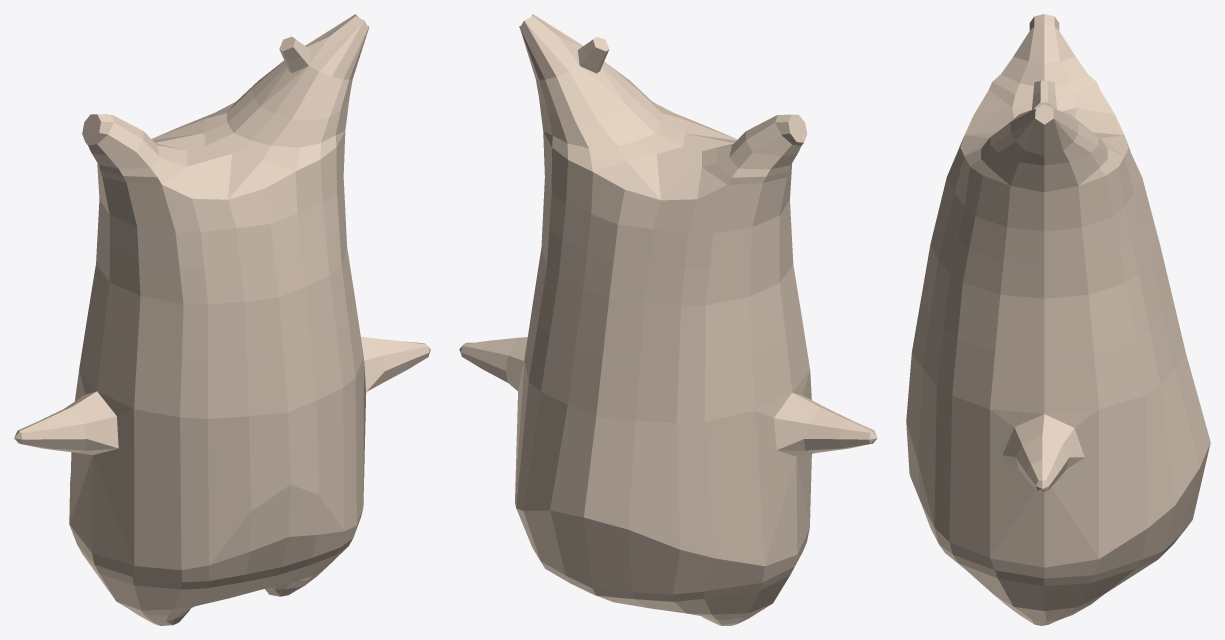
The model's file is frame_0154.obj.
The picture shows the model from 3 angles, left to right: view 1: azimuth 30°, elevation 25°; view 2: azimuth 150°, elevation 25°; view 3: azimuth 270°, elevation 25°; orthographic projection.
Parts seen in each view (by area): view 1: korok; view 2: korok; view 3: korok.
Boxes of the visible parts, <box> form: korok: <box>14,14,430,625</box>; korok: <box>459,14,877,625</box>; korok: <box>906,14,1210,625</box>.
Bounding box in the file's own units: 1.68 × 2.16 × 1.07.
